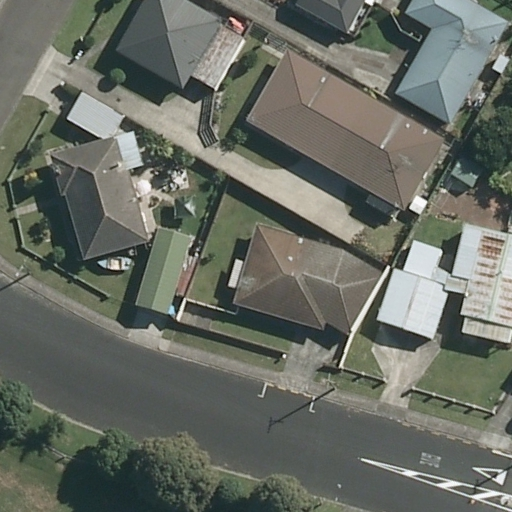DT: (12, 254, 36, 283), (318, 369, 341, 394)
